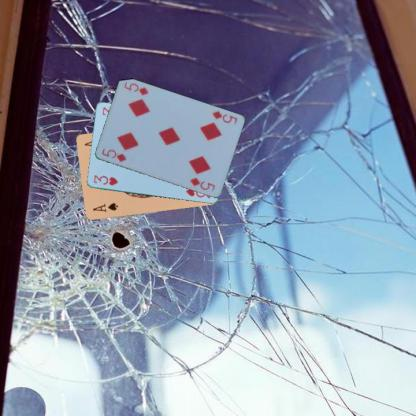3h: (91, 172, 119, 187)
5d: (210, 108, 238, 126), (99, 146, 127, 163)
As: (90, 201, 119, 213)
